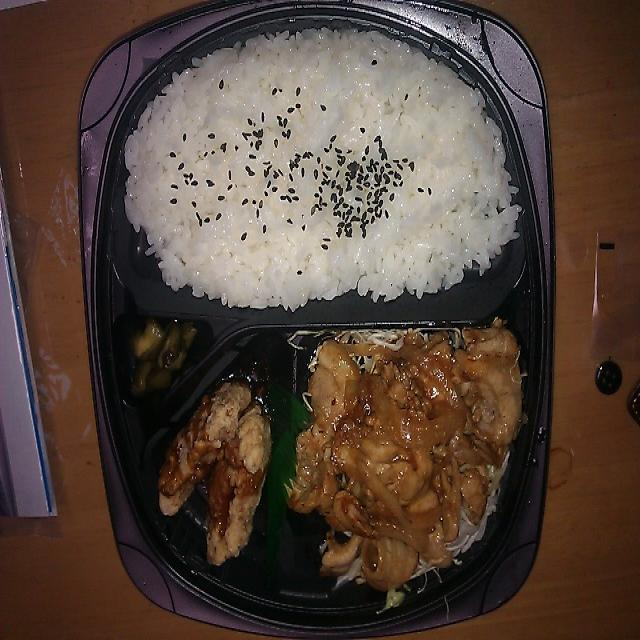Rice: (132, 34, 526, 304)
